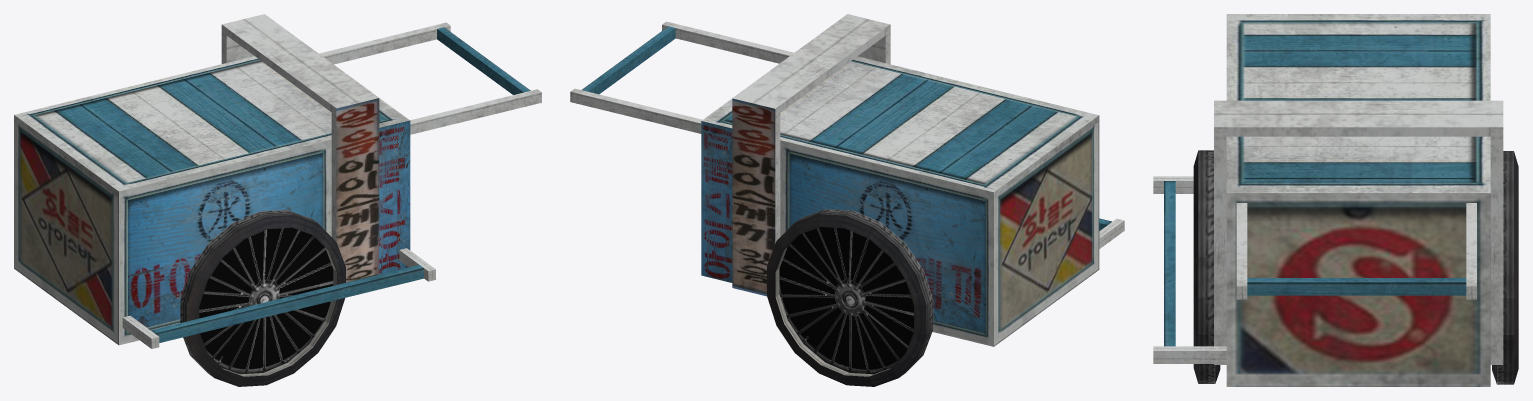
File: ice_liercar.FBX
3 views of the same model, side by side, from view 1: azimuth 30°, elevation 25°; view 2: azimuth 150°, elevation 25°; view 3: azimuth 270°, elevation 25° (orthographic). The views are drawn at different scales.
Parts seen in each view (by area): view 1: Box001; view 2: Box001; view 3: Box001.
Boxes of the visible parts, box(x1,y1,x2,y2) form: Box001: box(14, 14, 541, 386); Box001: box(570, 14, 1124, 386); Box001: box(1153, 14, 1518, 386).
Size of the model in its own units: 153 by 86.76 by 89.82.
4 materials, 4 textured.
